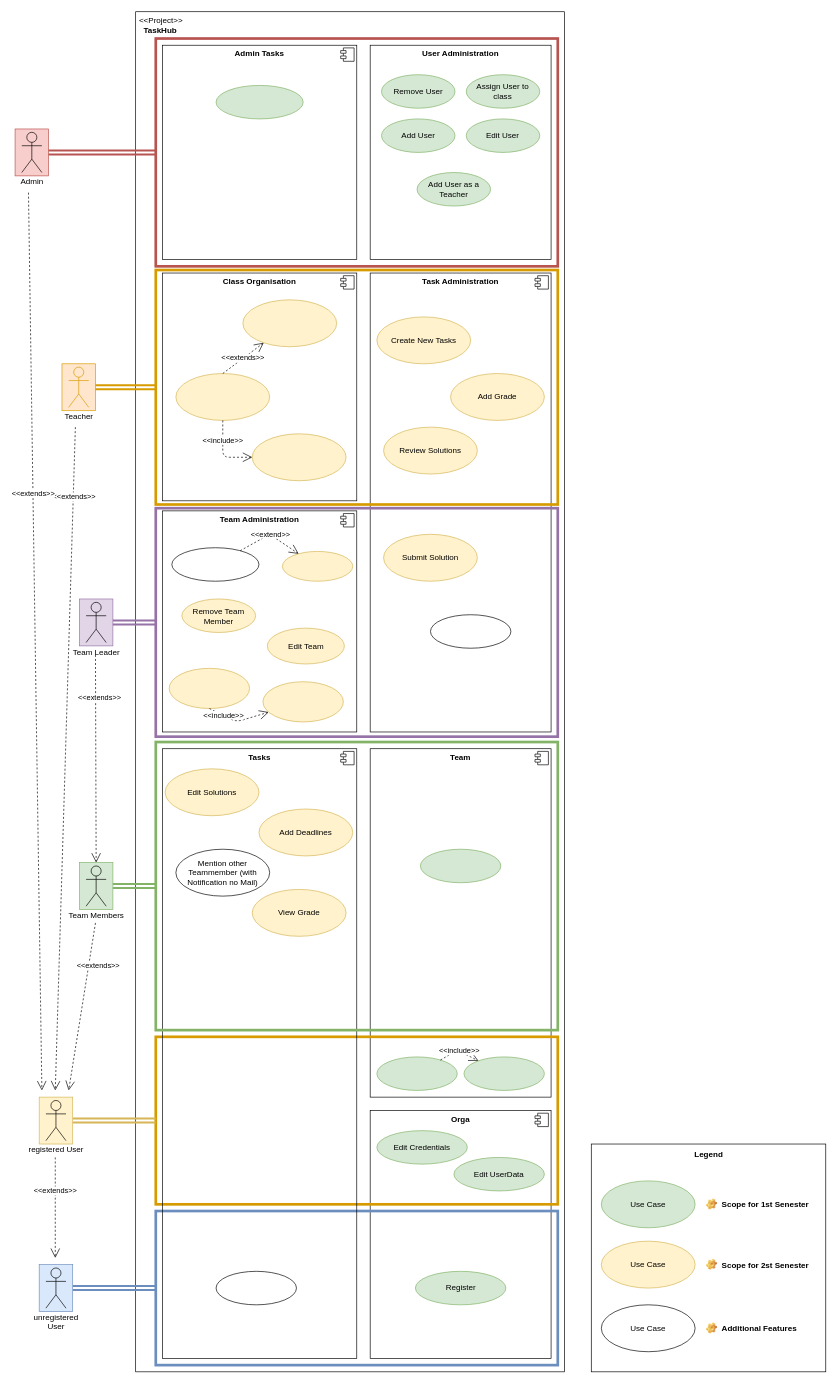
Some shapes in this 838 by 1384 pixel diagram are drawn without their labels. Here are the shapes that lost their labels. From the top down, the centre of each, then its label:
At [259,102]: "Create New Class f.e B4".
At [289,323]: "Notify all Classmembers".
At [222,396]: "Notify Single Team".
At [299,457]: "Notify Single Student".
At [215,564]: "Generate Invitation Links".
At [317,566]: "Add Classmate to Team".
At [470,631]: "Share Solution".
At [209,688]: "Notify Full Team".
At [302,701]: "Notify Member".
At [460,866]: "Leave Team".
At [416,1073]: "Create New Team".
At [503,1073]: "Assign to Group Leader".
At [255,1288]: "View Shared Solution".
